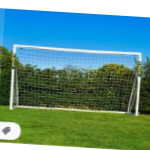goals: (8, 43, 143, 118)
